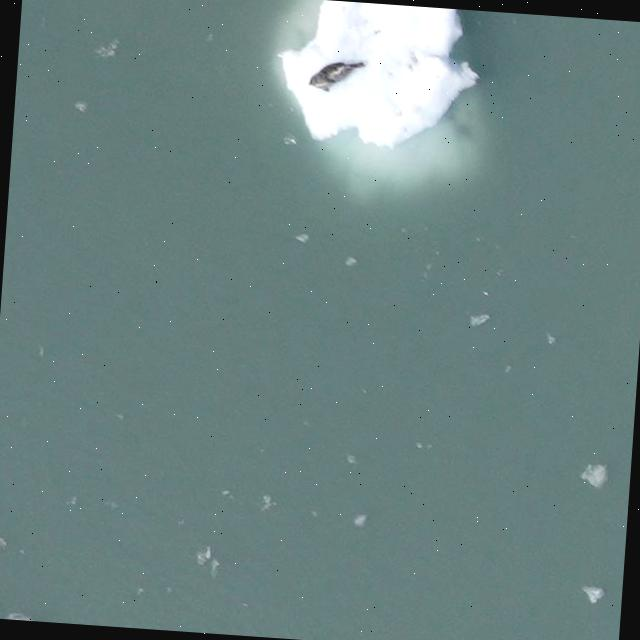seal: (306, 47, 367, 99)
